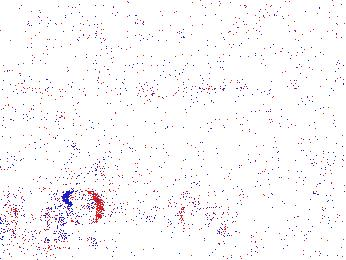flame jellyfish: (71, 112, 117, 178), (41, 189, 101, 234), (180, 194, 235, 243)
